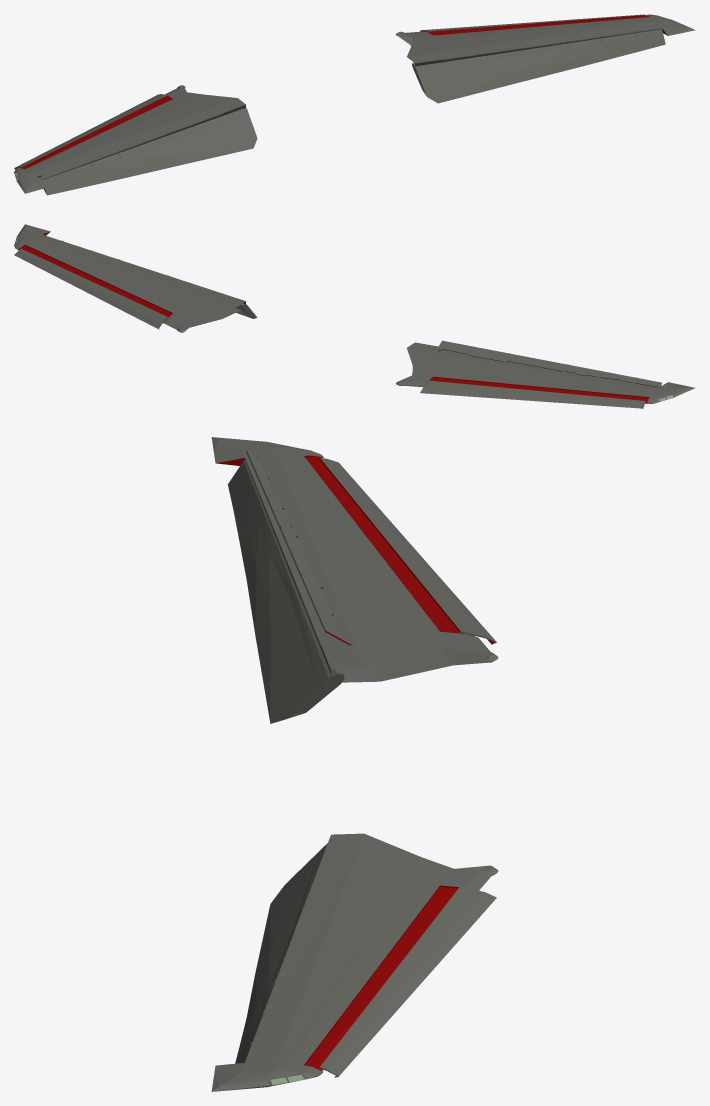
3 renders of one model, top to bottom at view 1: azimuth 30°, elevation 25°; view 2: azimuth 150°, elevation 25°; view 3: azimuth 270°, elevation 25°, orthographic. The views are drawn at different scales.
Parts seen in each view (by area): view 1: ShapeIndexedFaceSet.047_ShapeIndexedFaceSet.048, ShapeIndexedFaceSet.046_ShapeIndexedFaceSet.047, ShapeIndexedFaceSet.032_ShapeIndexedFaceSet.033, ShapeIndexedFaceSet.037_ShapeIndexedFaceSet.038, ShapeIndexedFaceSet.057_ShapeIndexedFaceSet.058, ShapeIndexedFaceSet.054_ShapeIndexedFaceSet.055, ShapeIndexedFaceSet.034_ShapeIndexedFaceSet.035, ShapeIndexedFaceSet.042_ShapeIndexedFaceSet.043, ShapeIndexedFaceSet.039_ShapeIndexedFaceSet.040, ShapeIndexedFaceSet.041_ShapeIndexedFaceSet.042, ShapeIndexedFaceSet.044_ShapeIndexedFaceSet.045, ShapeIndexedFaceSet.036_ShapeIndexedFaceSet.037 (+2 smaller); view 2: ShapeIndexedFaceSet.037_ShapeIndexedFaceSet.038, ShapeIndexedFaceSet.032_ShapeIndexedFaceSet.033, ShapeIndexedFaceSet.042_ShapeIndexedFaceSet.043, ShapeIndexedFaceSet.044_ShapeIndexedFaceSet.045, ShapeIndexedFaceSet.048_ShapeIndexedFaceSet.049, ShapeIndexedFaceSet.034_ShapeIndexedFaceSet.035, ShapeIndexedFaceSet.039_ShapeIndexedFaceSet.040, ShapeIndexedFaceSet.057_ShapeIndexedFaceSet.058; view 3: ShapeIndexedFaceSet.037_ShapeIndexedFaceSet.038, ShapeIndexedFaceSet.032_ShapeIndexedFaceSet.033, ShapeIndexedFaceSet.046_ShapeIndexedFaceSet.047, ShapeIndexedFaceSet.044_ShapeIndexedFaceSet.045, ShapeIndexedFaceSet.047_ShapeIndexedFaceSet.048, ShapeIndexedFaceSet.042_ShapeIndexedFaceSet.043, ShapeIndexedFaceSet.057_ShapeIndexedFaceSet.058, ShapeIndexedFaceSet.039_ShapeIndexedFaceSet.040, ShapeIndexedFaceSet.034_ShapeIndexedFaceSet.035, ShapeIndexedFaceSet.048_ShapeIndexedFaceSet.049, ShapeIndexedFaceSet.054_ShapeIndexedFaceSet.055.
Part boxes in pixels (x1,y1,x2,y2): ShapeIndexedFaceSet.047_ShapeIndexedFaceSet.048: [412, 29, 665, 103]; ShapeIndexedFaceSet.046_ShapeIndexedFaceSet.047: [43, 107, 257, 195]; ShapeIndexedFaceSet.032_ShapeIndexedFaceSet.033: [14, 85, 245, 193]; ShapeIndexedFaceSet.037_ShapeIndexedFaceSet.038: [396, 14, 695, 63]; ShapeIndexedFaceSet.057_ShapeIndexedFaceSet.058: [435, 25, 661, 59]; ShapeIndexedFaceSet.054_ShapeIndexedFaceSet.055: [39, 107, 223, 179]; ShapeIndexedFaceSet.034_ShapeIndexedFaceSet.035: [20, 96, 172, 169]; ShapeIndexedFaceSet.042_ShapeIndexedFaceSet.043: [14, 94, 167, 168]; ShapeIndexedFaceSet.039_ShapeIndexedFaceSet.040: [427, 15, 667, 35]; ShapeIndexedFaceSet.041_ShapeIndexedFaceSet.042: [415, 29, 661, 66]; ShapeIndexedFaceSet.044_ShapeIndexedFaceSet.045: [420, 14, 644, 32]; ShapeIndexedFaceSet.036_ShapeIndexedFaceSet.037: [43, 105, 245, 179]; ShapeIndexedFaceSet.037_ShapeIndexedFaceSet.038: [14, 224, 245, 332]; ShapeIndexedFaceSet.032_ShapeIndexedFaceSet.033: [396, 342, 695, 403]; ShapeIndexedFaceSet.042_ShapeIndexedFaceSet.043: [420, 380, 645, 408]; ShapeIndexedFaceSet.044_ShapeIndexedFaceSet.045: [14, 248, 167, 329]; ShapeIndexedFaceSet.048_ShapeIndexedFaceSet.049: [435, 340, 661, 388]; ShapeIndexedFaceSet.034_ShapeIndexedFaceSet.035: [425, 376, 649, 403]; ShapeIndexedFaceSet.039_ShapeIndexedFaceSet.040: [18, 232, 172, 322]; ShapeIndexedFaceSet.057_ShapeIndexedFaceSet.058: [38, 234, 222, 298]; ShapeIndexedFaceSet.037_ShapeIndexedFaceSet.038: [211, 833, 498, 1091]; ShapeIndexedFaceSet.032_ShapeIndexedFaceSet.033: [211, 437, 498, 682]; ShapeIndexedFaceSet.046_ShapeIndexedFaceSet.047: [228, 460, 344, 723]; ShapeIndexedFaceSet.044_ShapeIndexedFaceSet.045: [319, 886, 496, 1077]; ShapeIndexedFaceSet.047_ShapeIndexedFaceSet.048: [235, 843, 327, 1063]; ShapeIndexedFaceSet.042_ShapeIndexedFaceSet.043: [320, 457, 496, 644]; ShapeIndexedFaceSet.057_ShapeIndexedFaceSet.058: [245, 859, 351, 1063]; ShapeIndexedFaceSet.039_ShapeIndexedFaceSet.040: [304, 859, 458, 1070]; ShapeIndexedFaceSet.034_ShapeIndexedFaceSet.035: [216, 455, 474, 636]; ShapeIndexedFaceSet.048_ShapeIndexedFaceSet.049: [246, 450, 351, 644]; ShapeIndexedFaceSet.054_ShapeIndexedFaceSet.055: [245, 457, 348, 646].
Bounding box in the file's own units: 199 × 10.76 × 36.83.
